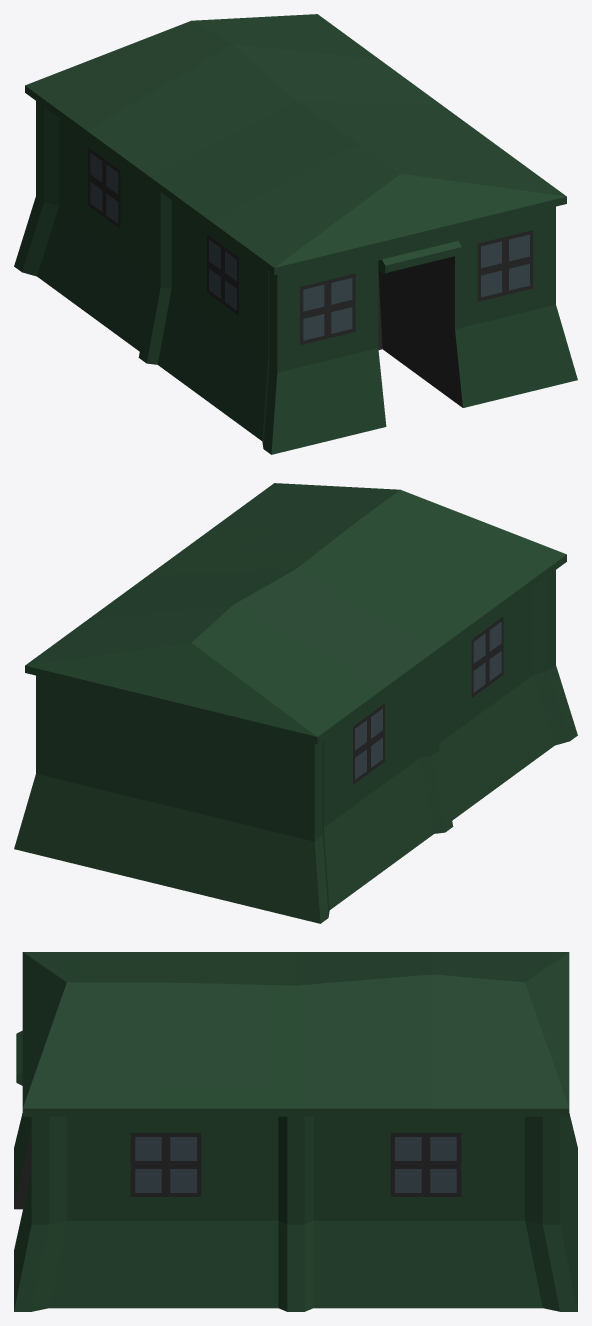
The model's file is military_military-tent.fbx.
The picture shows the model from 3 angles, top to bottom: view 1: azimuth 30°, elevation 25°; view 2: azimuth 150°, elevation 25°; view 3: azimuth 270°, elevation 25°; orthographic projection. The views are drawn at different scales.
Visible parts, largest first — view 1: military_military_tent; view 2: military_military_tent; view 3: military_military_tent.
Boxes of the visible parts, x1,y1,x2,y2 form: military_military_tent: [14, 14, 577, 454]; military_military_tent: [14, 483, 577, 923]; military_military_tent: [14, 952, 577, 1311].
Size of the model in its own units: 138 by 100 by 200.
